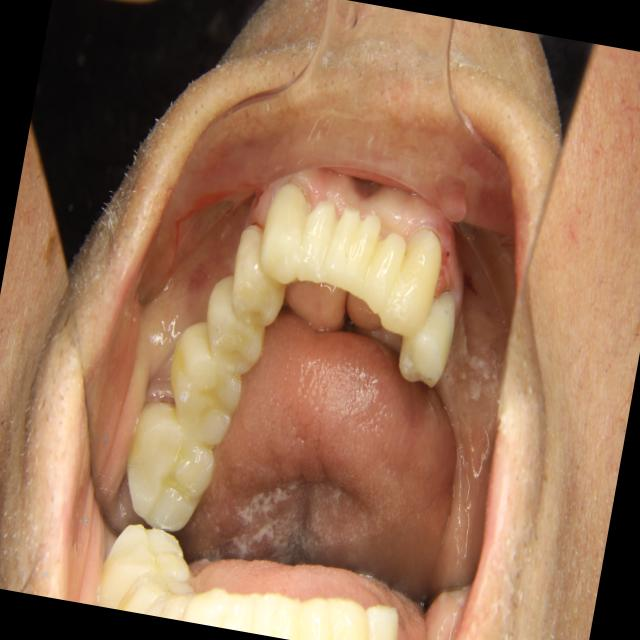tooth: (108, 385, 236, 548), (150, 311, 263, 468), (388, 265, 474, 405), (372, 212, 452, 358), (215, 212, 303, 339), (193, 265, 280, 382), (246, 180, 321, 299), (307, 184, 370, 304), (334, 198, 389, 311), (358, 220, 413, 332), (289, 190, 344, 295)
